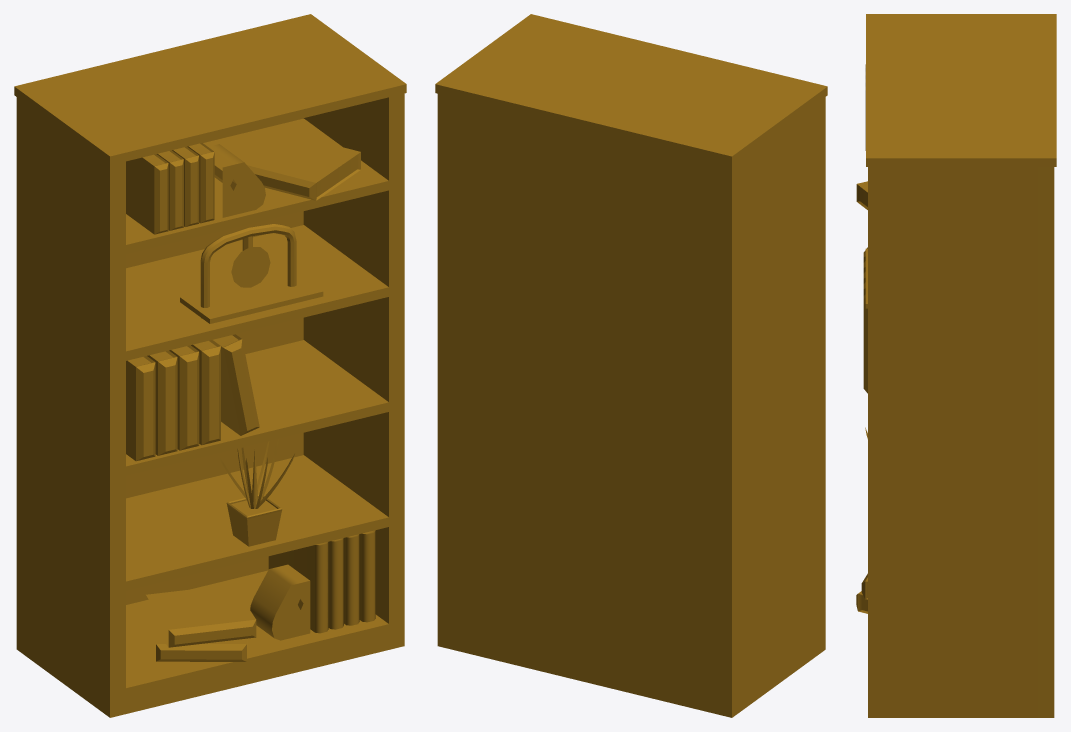
The model's file is bookshelf2.fbx.
The picture shows the model from 3 angles, left to right: view 1: azimuth 30°, elevation 25°; view 2: azimuth 150°, elevation 25°; view 3: azimuth 270°, elevation 25°; orthographic projection.
Parts seen in each view (by area): view 1: bookshelf2; view 2: bookshelf2; view 3: bookshelf2.
Part boxes in pixels (x1,y1,x2,y2): bookshelf2: (14, 14, 406, 717); bookshelf2: (435, 14, 827, 717); bookshelf2: (856, 14, 1056, 717).
Bounding box in the file's own units: 89.47 × 162 × 52.6.
